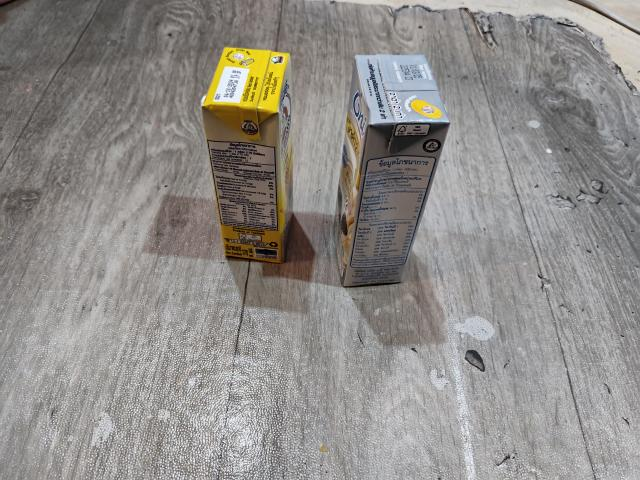drink_box: (341, 50, 445, 290), (202, 48, 297, 262)
